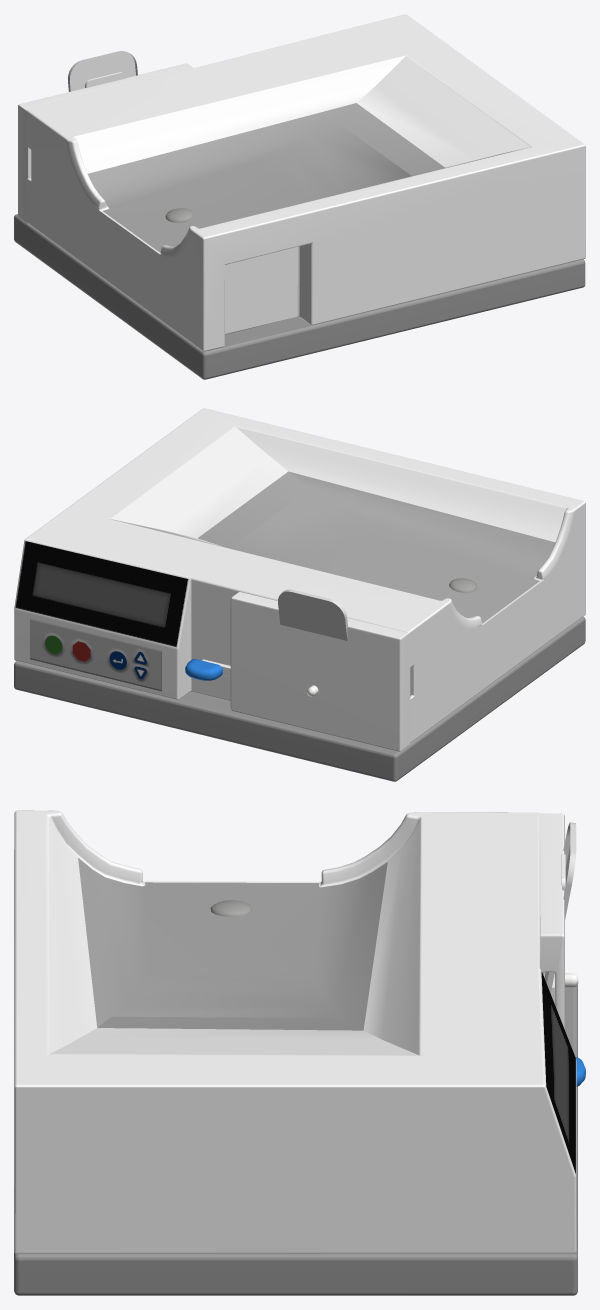
The model's file is APD_Machine_v3.glb.
The picture shows the model from 3 angles, top to bottom: view 1: azimuth 30°, elevation 25°; view 2: azimuth 150°, elevation 25°; view 3: azimuth 270°, elevation 25°; orthographic projection. The views are drawn at different scales.
Parts seen in each view (by area): view 1: DeviceDialysisReference_primitive1, DeviceDialysisReference_primitive9, DeviceDialysisReference_primitive2, DeviceDialysisReference_primitive3, DeviceDialysisReference_primitive6; view 2: DeviceDialysisReference_primitive1, DeviceDialysisReference_primitive9, DeviceDialysisReference_primitive3, DeviceDialysisReference_primitive2, DeviceDialysisReference_primitive6, DeviceDialysisReference_primitive7; view 3: DeviceDialysisReference_primitive1, DeviceDialysisReference_primitive9, DeviceDialysisReference_primitive2, DeviceDialysisReference_primitive3, DeviceDialysisReference_primitive6.
Boxes of the visible parts, x1,y1,x2,y2 form: DeviceDialysisReference_primitive1: (26, 14, 585, 351); DeviceDialysisReference_primitive9: (88, 103, 444, 252); DeviceDialysisReference_primitive2: (14, 214, 585, 379); DeviceDialysisReference_primitive3: (18, 63, 193, 224); DeviceDialysisReference_primitive6: (68, 51, 137, 91); DeviceDialysisReference_primitive1: (14, 408, 585, 743); DeviceDialysisReference_primitive9: (197, 471, 555, 623); DeviceDialysisReference_primitive3: (202, 592, 410, 751); DeviceDialysisReference_primitive2: (14, 616, 585, 781); DeviceDialysisReference_primitive6: (278, 589, 347, 640); DeviceDialysisReference_primitive7: (185, 659, 222, 680); DeviceDialysisReference_primitive1: (14, 810, 576, 1253); DeviceDialysisReference_primitive9: (78, 858, 387, 1030); DeviceDialysisReference_primitive2: (14, 985, 577, 1295); DeviceDialysisReference_primitive3: (540, 813, 565, 1029); DeviceDialysisReference_primitive6: (543, 822, 576, 993).
Bounding box in the file's own units: 16.99 × 7.03 × 14.84.
Materials: 10 (1 with a texture image).
